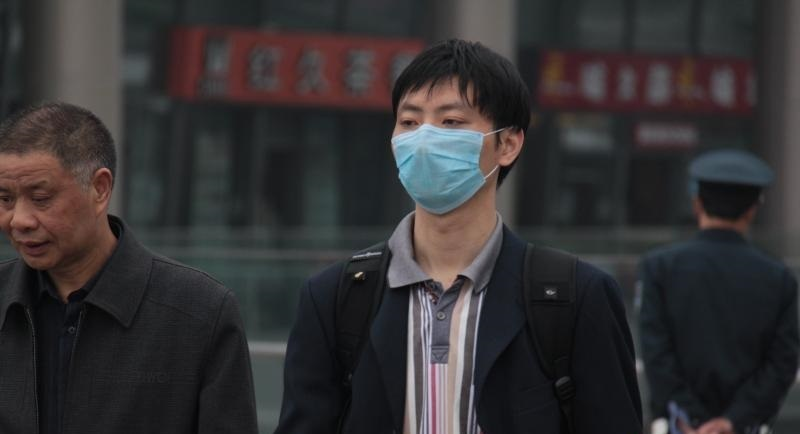Mask: (392, 96, 492, 198)
